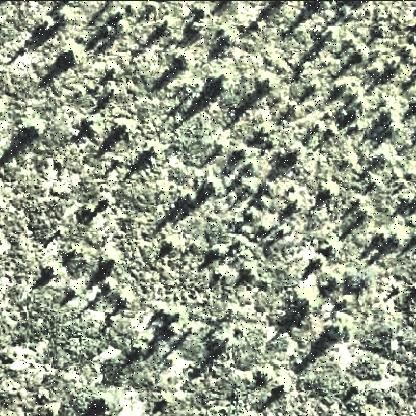tree-top: (325, 317, 353, 342), (294, 287, 320, 313), (378, 107, 404, 133), (155, 234, 183, 257), (387, 223, 411, 249), (62, 43, 86, 68), (112, 116, 136, 140), (212, 71, 236, 95), (216, 22, 240, 46), (92, 393, 117, 415), (174, 47, 198, 69), (255, 69, 279, 91), (25, 117, 47, 139), (83, 115, 105, 137), (374, 142, 396, 164), (239, 173, 261, 195), (204, 177, 226, 198), (100, 251, 122, 272), (54, 4, 76, 25), (157, 11, 177, 34), (286, 144, 308, 164), (42, 259, 62, 281), (319, 178, 340, 198), (351, 43, 371, 64), (143, 140, 163, 160), (209, 241, 229, 259), (116, 289, 134, 307), (275, 377, 291, 395), (45, 403, 63, 416)
